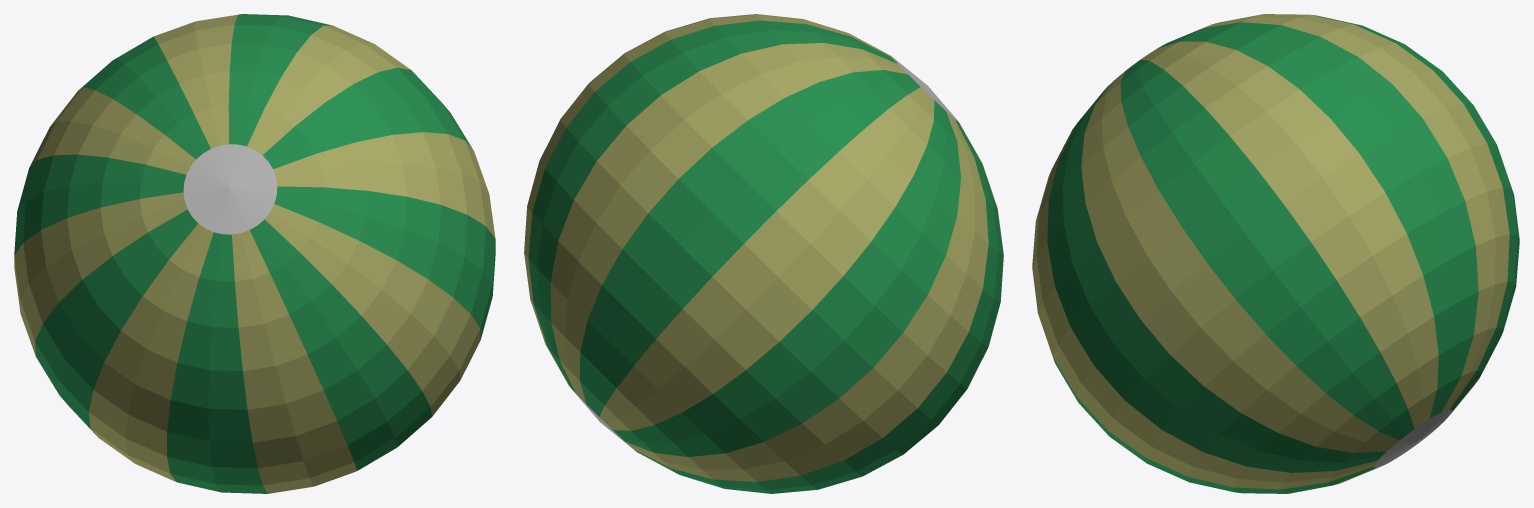
The model's file is ball_green_yellow.fbx.
3 views of the same model, side by side, from view 1: azimuth 30°, elevation 25°; view 2: azimuth 150°, elevation 25°; view 3: azimuth 270°, elevation 25° (orthographic). The views are drawn at different scales.
Visible parts, largest first — view 1: Sphere; view 2: Sphere; view 3: Sphere.
Part boxes in pixels (x1=…): Sphere: x1=14, y1=14, x2=495, y2=493; Sphere: x1=524, y1=14, x2=1003, y2=493; Sphere: x1=1032, y1=14, x2=1519, y2=493.
Bounding box in the file's own units: 55.01 × 54.4 × 54.84.
